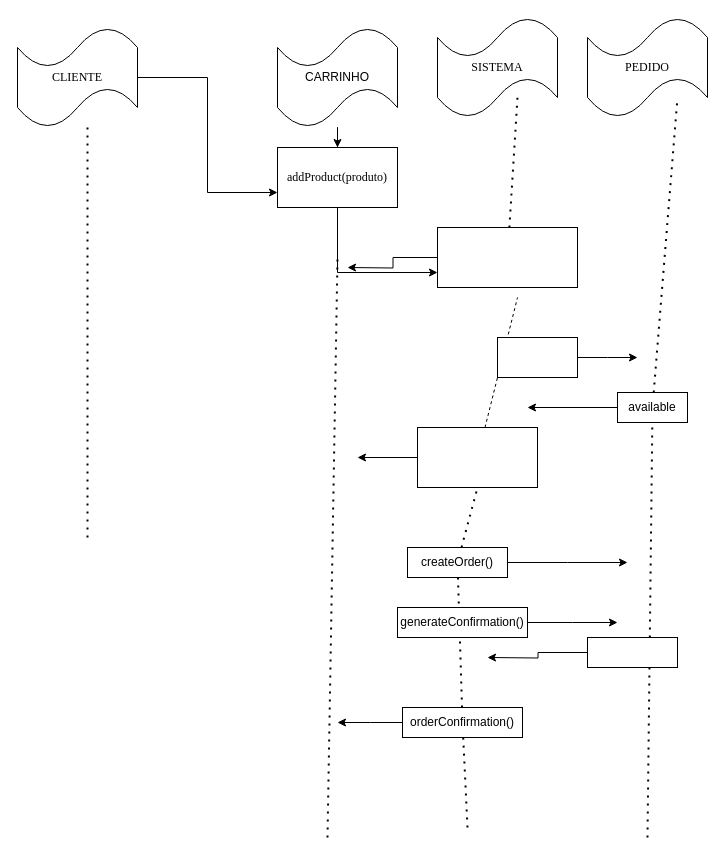
Some shapes in this 725 by 857 pixel diagram are drawn without their labels. Here are the shapes that lost their labels. From the top down, the centre of each, then its label:
the point at 507,257: checkAvailability (produto)
the point at 537,357: isAvailable ()
the point at 477,457: confirmAvailability ()
the point at 632,652: orderCreated ()
